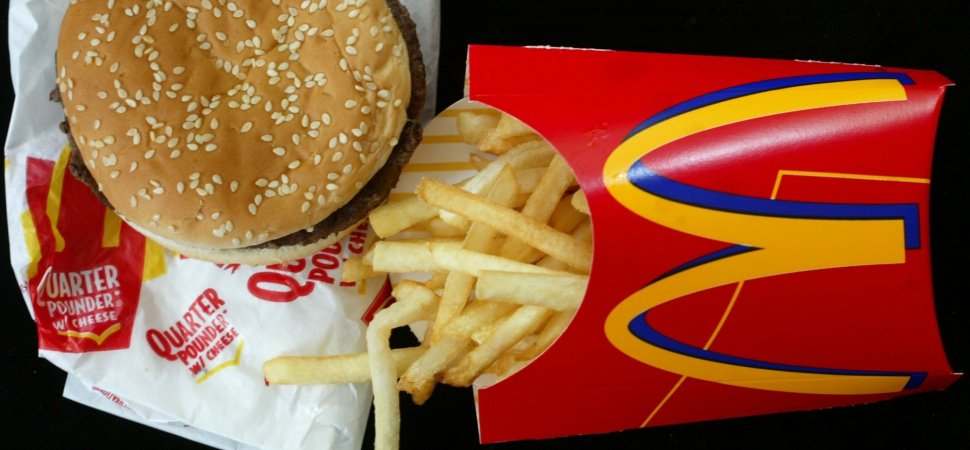mcdonalds: (601, 65, 914, 395)
